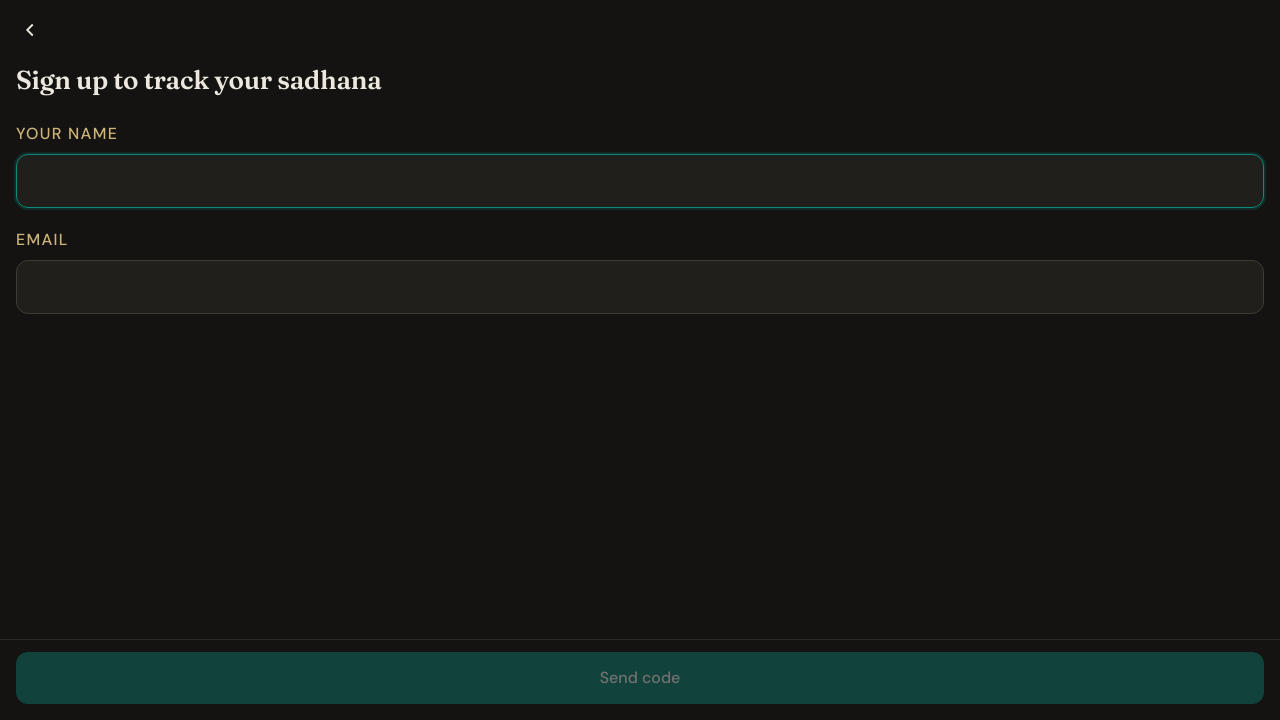
Scenario: SignIn › shows a back button in the code step and returns to details
Type "Priya" into the field labelled "Your name" at (640, 181), box [16,154,1264,208]
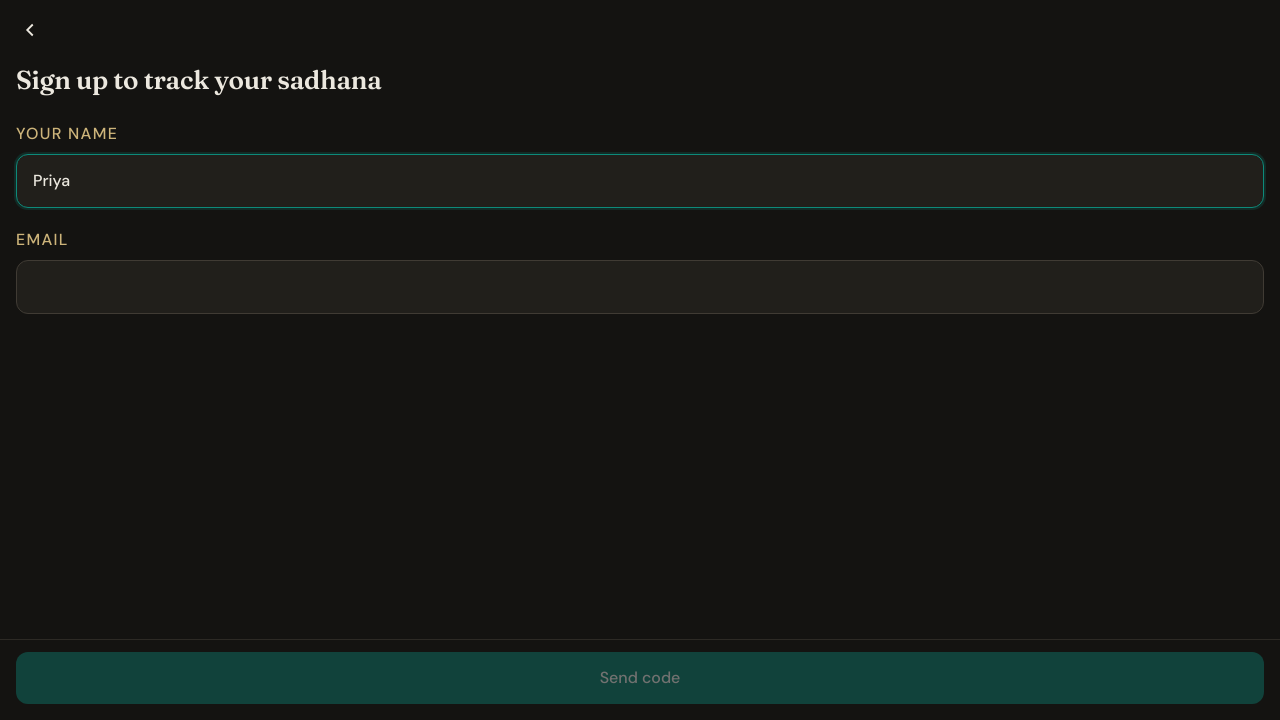
Type "a@b.co" into the field labelled "Email" at (640, 287), box [16,260,1264,314]
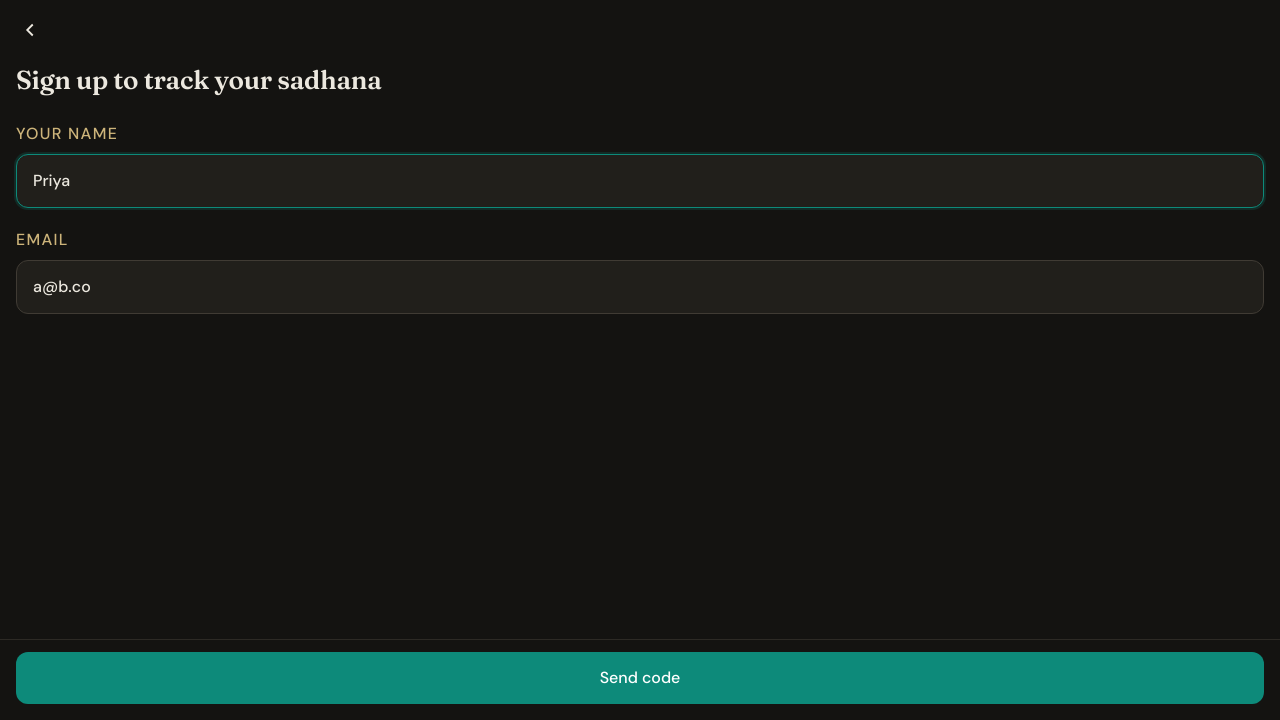
Click the button "Send code" at (640, 678), box [16,652,1264,704]
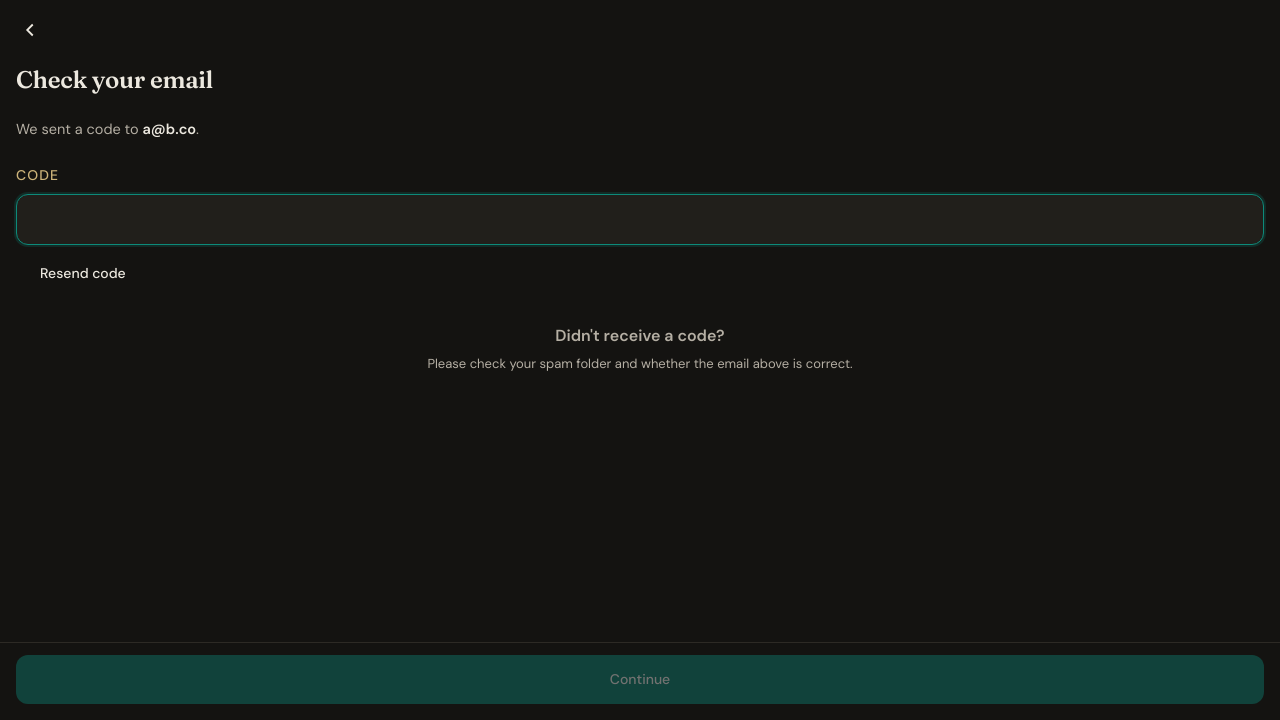
Now the heading "Check your email" is shown, box [16,65,213,94]
Click the button named "Go back" at (30, 30), box [8,8,52,52]
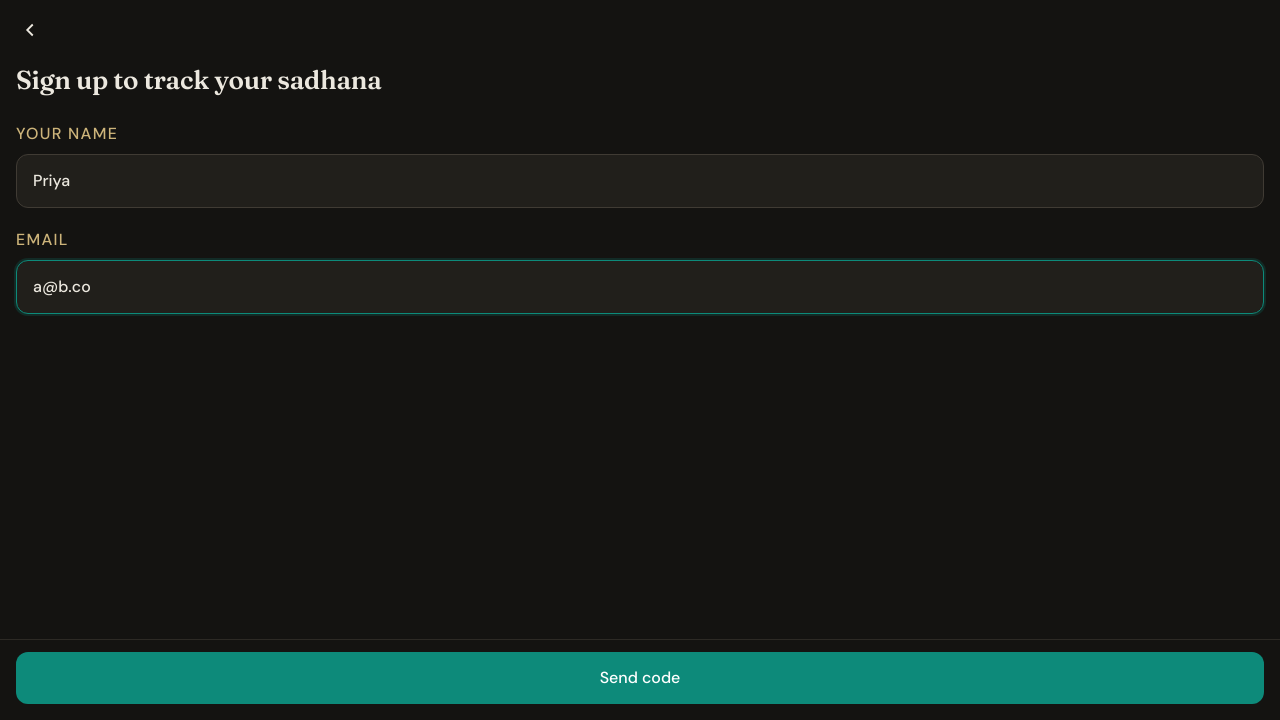
Now the heading "Sign up to track your sadhana" is shown, box [16,64,382,96]
